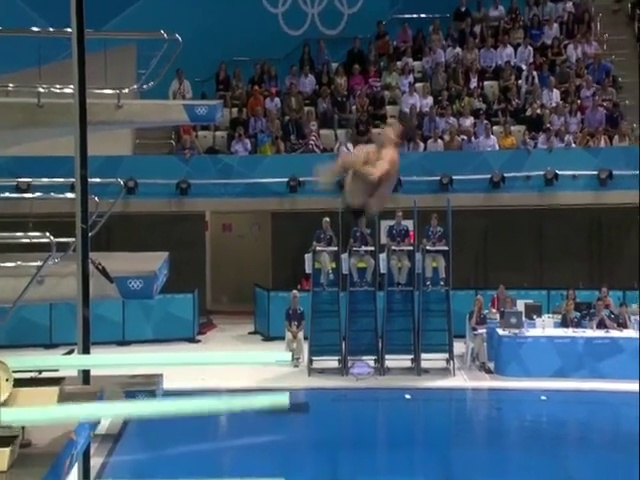diver: (315, 116, 411, 218)
